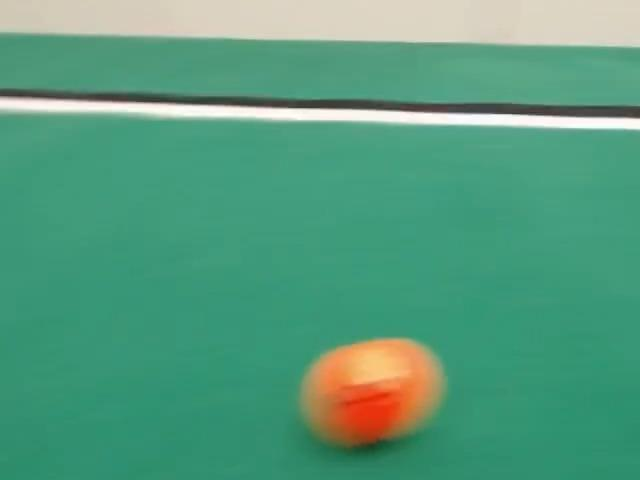Ball: (300, 338, 445, 447)
